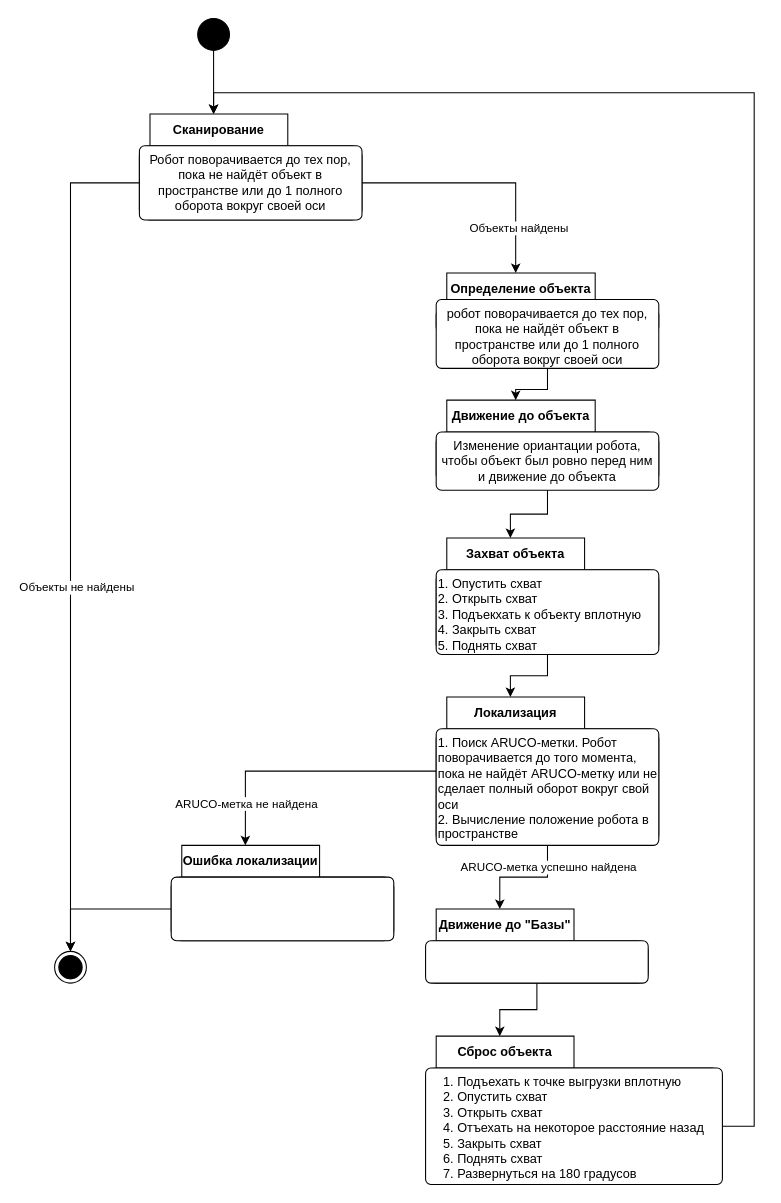
The diagram is 781 pixels wide and 1203 high, and some of its shapes have lost their labels. The centre of each missing label's shape, as x and y in pixels:
1. Составление маршрута назад. 2. Движение до "Базы": point (536, 961)
Загорается соответствующая индикация на дисплее и подаётся звуковой сигнал: point (282, 908)
